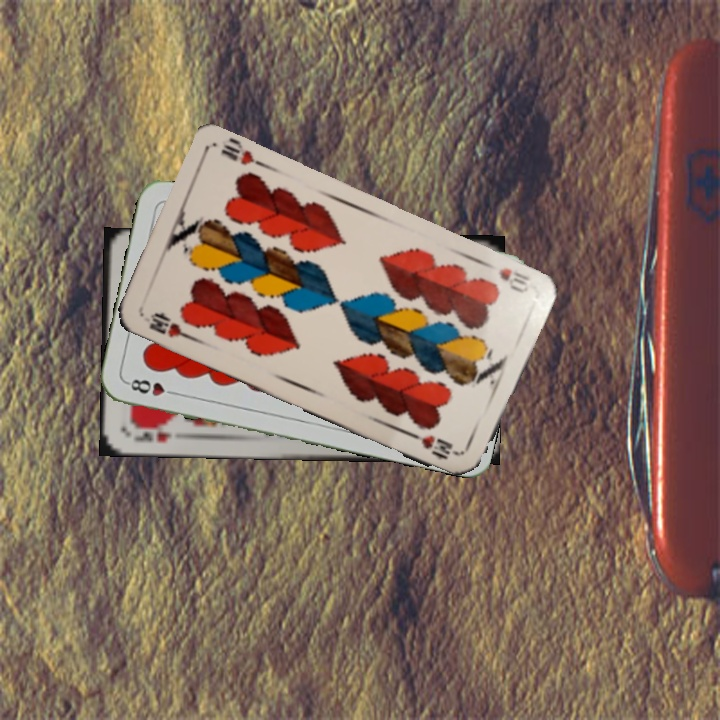H10: (480, 258, 534, 296), (145, 308, 194, 342)
H8: (123, 375, 182, 399)
HK: (129, 427, 175, 446)
